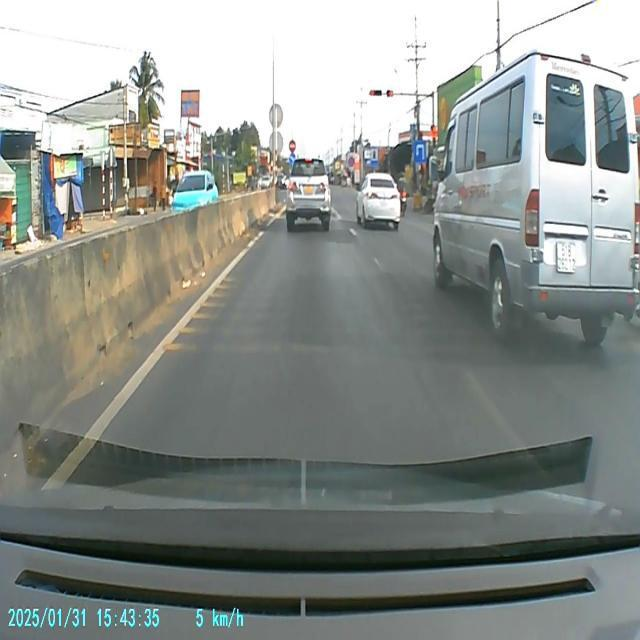102-cam-di-nguoc-chieu: (288, 140, 296, 152)
302a-huong-phai-di-vong-chuong-ngai-vat-1: (288, 153, 296, 165)
